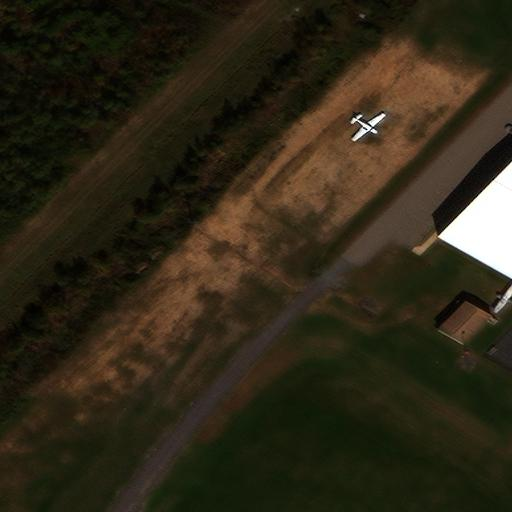Small Civil Transport: (353, 115, 387, 142), (494, 283, 511, 311)
